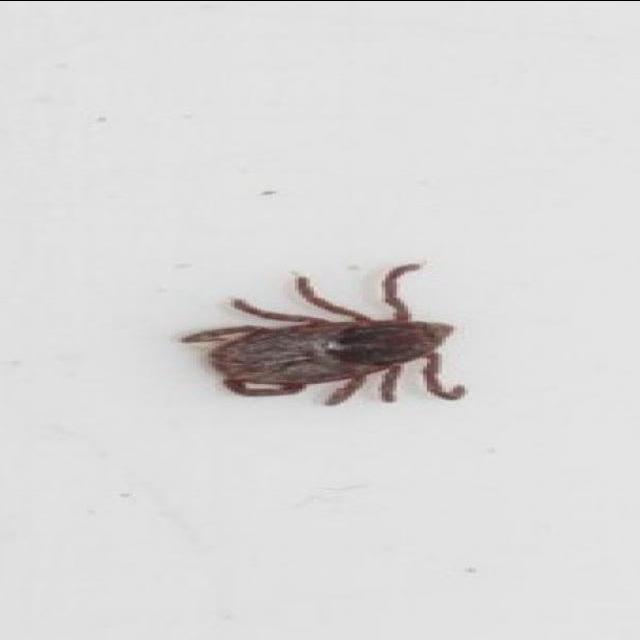Rhipicephalus Sanguineus-F: (174, 259, 465, 406)
